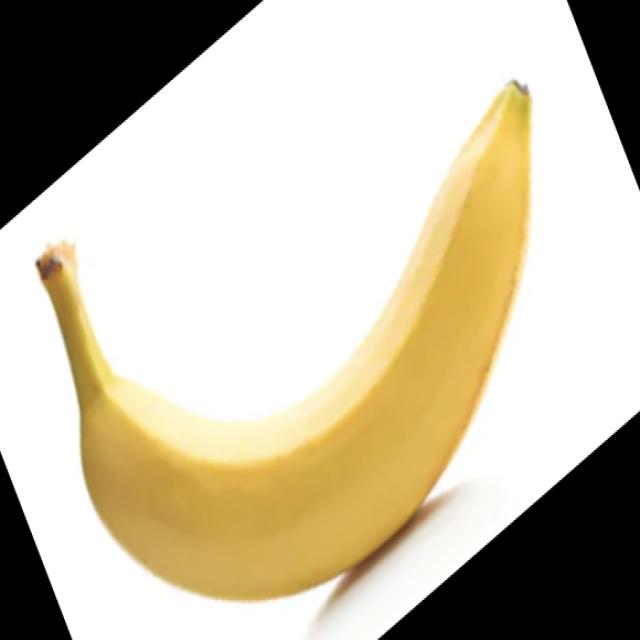god quality banana: (36, 82, 532, 600)
